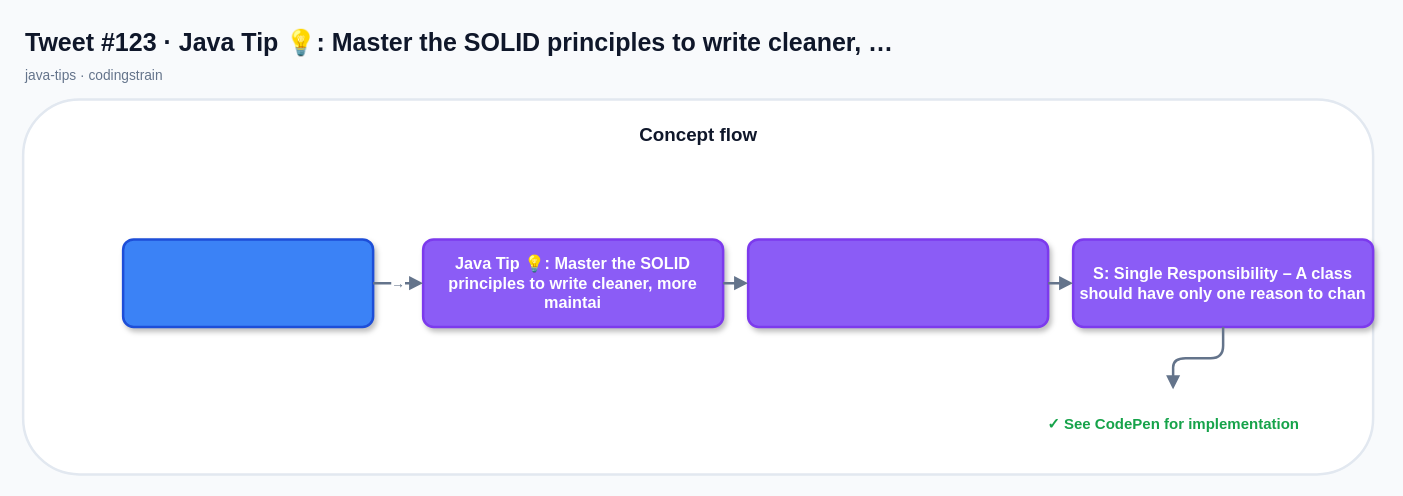
This 1403x496 diagram has some shape labels left out. Each missing label, with the centre of its shape:
Each letter stands for a key design principle:: the point at 898,284
Problem / context: the point at 248,284
